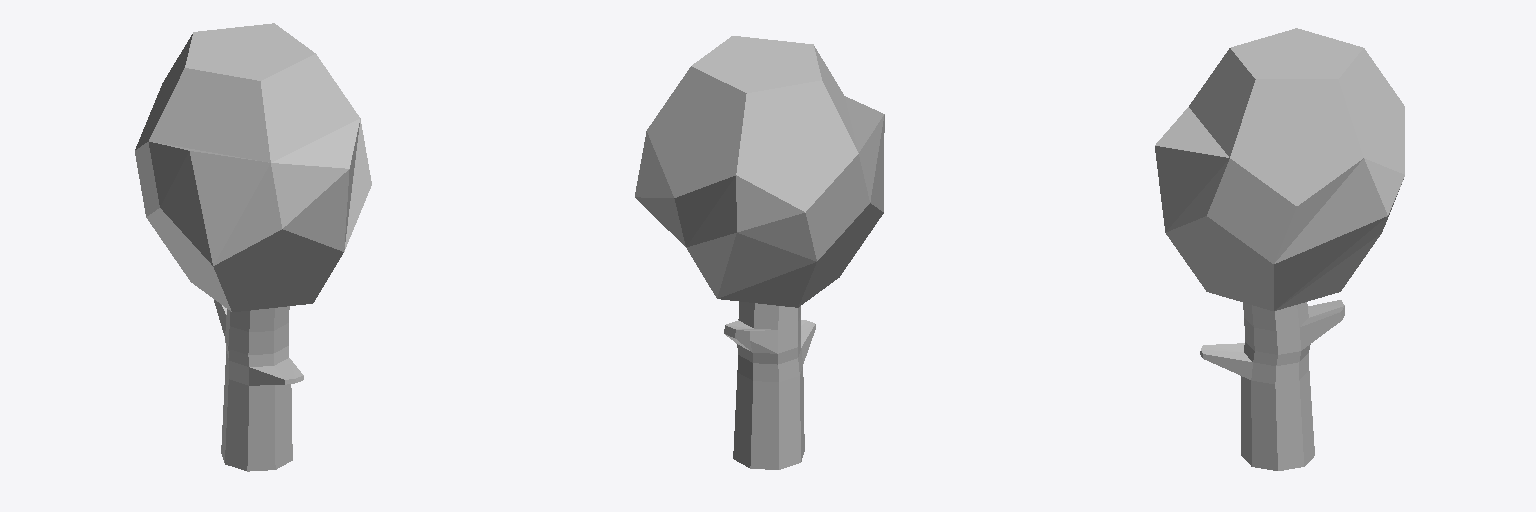
Rendered from arbol_4.obj.
3 views of the same model, side by side, from view 1: azimuth 30°, elevation 25°; view 2: azimuth 150°, elevation 25°; view 3: azimuth 270°, elevation 25° (orthographic).
Parts seen in each view (by area): view 1: arbol4; view 2: arbol4; view 3: arbol4.
Part boxes in pixels (x1,y1,x2,y2): arbol4: (135, 23, 371, 471); arbol4: (635, 36, 884, 469); arbol4: (1155, 28, 1404, 470).
Bounding box in the file's own units: 1.97 × 3.8 × 2.16.